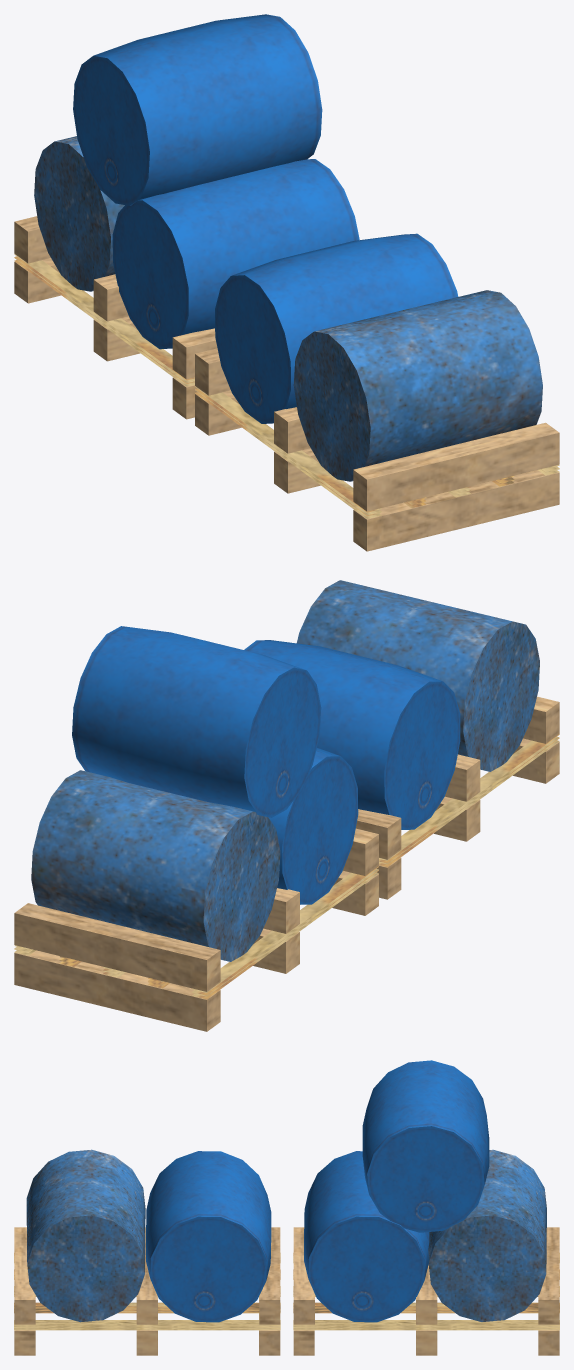
Rendered from water_storage_small.fbx.
3 views of the same model, one above another, from view 1: azimuth 30°, elevation 25°; view 2: azimuth 150°, elevation 25°; view 3: azimuth 270°, elevation 25° (orthographic). The views are drawn at different scales.
Parts seen in each view (by area): view 1: water_storage, water_storage_2; view 2: water_storage_2, water_storage; view 3: water_storage_2, water_storage.
Part boxes in pixels (<box>): water_storage: <box>195,233,559,551</box>; water_storage_2: <box>14,14,359,419</box>; water_storage_2: <box>14,626,378,1031</box>; water_storage: <box>244,580,559,899</box>; water_storage_2: <box>293,1060,559,1355</box>; water_storage: <box>14,1149,280,1355</box>.
Bounding box in the file's own units: 81.03 × 119 × 257.
Materials: 2 (2 with a texture image).
